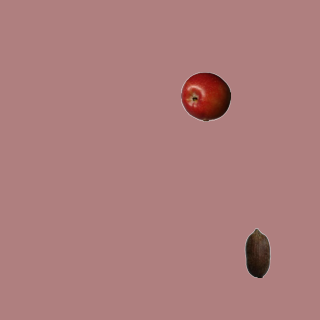Apple Braeburn: (180, 71, 230, 121)
Nut Pecan: (232, 227, 282, 277)
